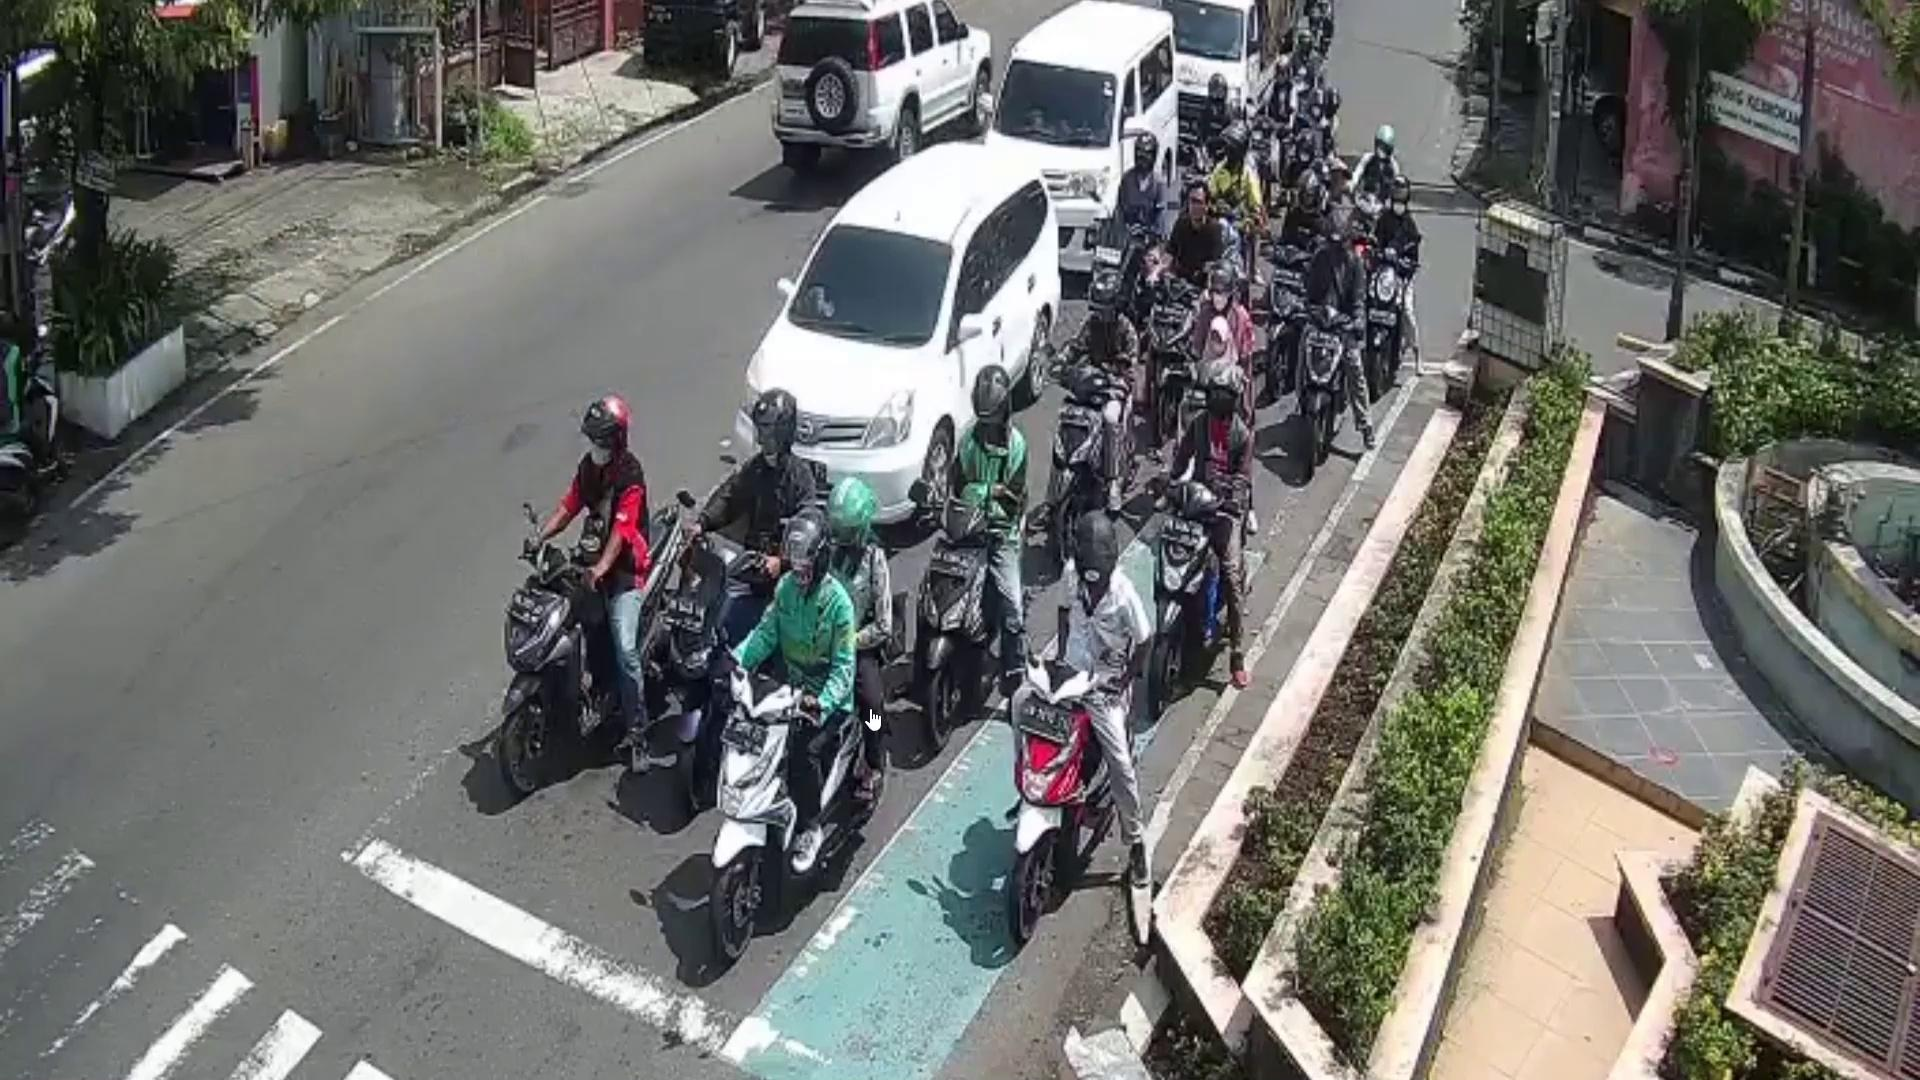car: (728, 137, 1062, 538), (989, 0, 1180, 273), (771, 0, 992, 170), (1163, 0, 1280, 115)
motorbike: (489, 501, 702, 800), (711, 669, 870, 959), (1013, 653, 1116, 936), (914, 501, 998, 753), (1149, 491, 1236, 724), (1056, 360, 1131, 513), (1303, 310, 1358, 465), (1364, 248, 1415, 400)
